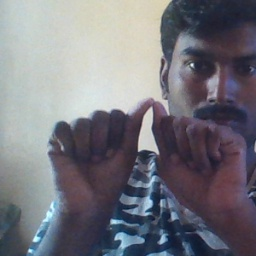A: (55, 95, 241, 207)
